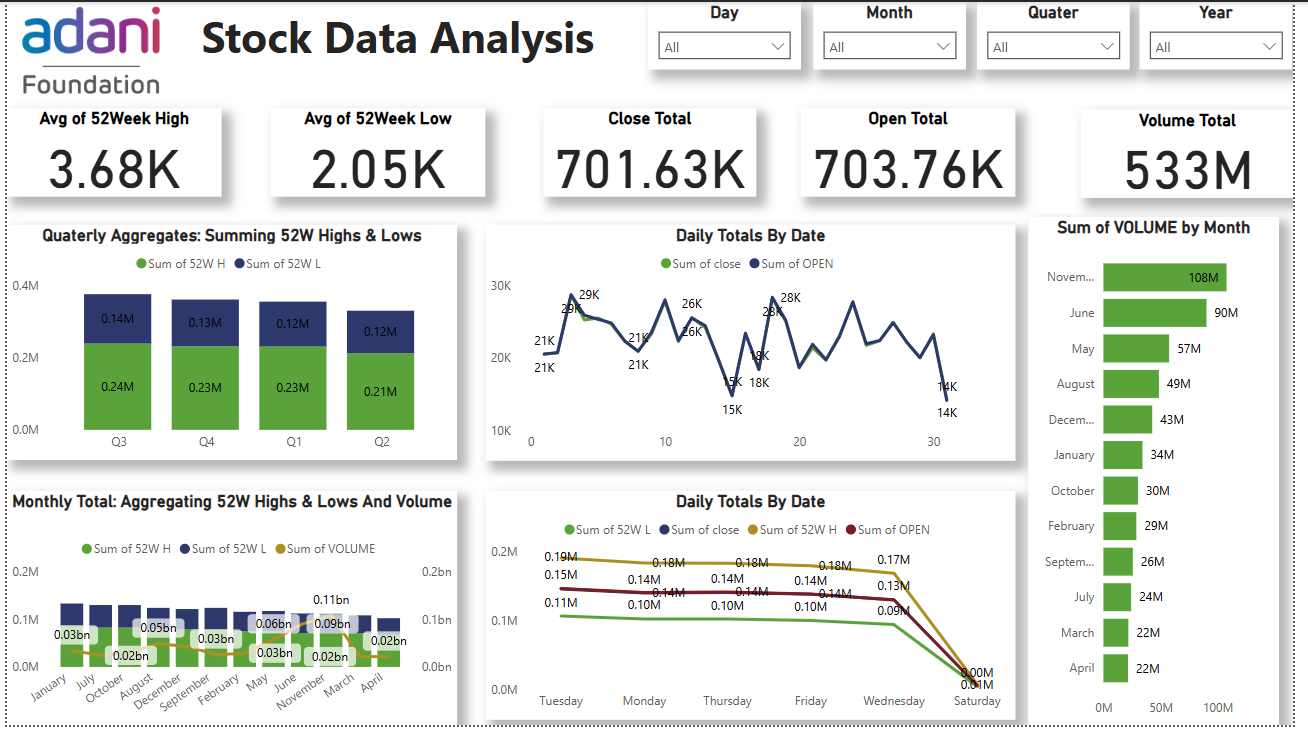

The page's visual inventory and layout, read from the dashboard file:
{"tool":"powerbi","page":{"name":"Page 1","canvas":[1280,720],"ordinal":0},"visuals":[{"type":"slicer","title":"Day","fields":{"Values":["Quote-Equity-ADANIENT-EQ-27-03-.Day"]},"box":[638.2,0,151.8,67.2],"z":0},{"type":"slicer","title":"Month","fields":{"Values":["Quote-Equity-ADANIENT-EQ-27-03-.Date .Variation.Date Hierarchy.Month"]},"box":[802.8,0,152,67],"z":1000},{"type":"slicer","title":"Quater","fields":{"Values":["Quote-Equity-ADANIENT-EQ-27-03-.Quater"]},"box":[964.8,0,152.2,67],"z":2000},{"type":"slicer","title":"Year","fields":{"Values":["Quote-Equity-ADANIENT-EQ-27-03-.Year"]},"box":[1126.7,0,152,67],"z":3000},{"type":"card","title":"Avg of 52Week High","fields":{"Values":["Avg(Quote-Equity-ADANIENT-EQ-27-03-.52W H )"]},"box":[0,106.1,213.6,88],"z":4000},{"type":"card","title":"Avg of 52Week Low","fields":{"Values":["Avg(Quote-Equity-ADANIENT-EQ-27-03-.52W L )"]},"box":[262.5,106.1,213.6,88],"z":5000},{"type":"card","title":"Close Total ","fields":{"Values":["Sum(Quote-Equity-ADANIENT-EQ-27-03-.close )"]},"box":[533.3,106.1,212.2,88],"z":6000},{"type":"card","title":"Open Total ","fields":{"Values":["Sum(Quote-Equity-ADANIENT-EQ-27-03-.OPEN )"]},"box":[790.2,106.1,213.6,88],"z":7000},{"type":"card","title":"Volume Total","fields":{"Values":["Sum(Quote-Equity-ADANIENT-EQ-27-03-.VOLUME )"]},"box":[1068.1,107.5,212.2,88],"z":8000},{"type":"columnChart","title":"Quaterly Aggregates: Summing 52W Highs & Lows","fields":{"Y":["Sum(Quote-Equity-ADANIENT-EQ-27-03-.52W H )","Sum(Quote-Equity-ADANIENT-EQ-27-03-.52W L )"],"Category":["Quote-Equity-ADANIENT-EQ-27-03-.Quater"]},"box":[0,222,448.2,234.6],"z":9000},{"type":"lineStackedColumnComboChart","title":"Monthly Total: Aggregating 52W Highs & Lows And Volume ","fields":{"Y":["Sum(Quote-Equity-ADANIENT-EQ-27-03-.52W H )","Sum(Quote-Equity-ADANIENT-EQ-27-03-.52W L )"],"Category":["Quote-Equity-ADANIENT-EQ-27-03-.Month "],"Y2":["Sum(Quote-Equity-ADANIENT-EQ-27-03-.VOLUME )"]},"box":[0,485.9,448.2,234.6],"z":10000},{"type":"lineChart","title":"Daily Totals By Date ","fields":{"Y":["Sum(Quote-Equity-ADANIENT-EQ-27-03-.close )","Sum(Quote-Equity-ADANIENT-EQ-27-03-.OPEN )"],"Category":["Quote-Equity-ADANIENT-EQ-27-03-.Date .Variation.Date Hierarchy.Day"]},"box":[476.4,221.4,527.4,235.1],"z":11000},{"type":"lineChart","title":"Daily Totals By Date ","fields":{"Y":["Sum(Quote-Equity-ADANIENT-EQ-27-03-.52W L )","Sum(Quote-Equity-ADANIENT-EQ-27-03-.close )","Sum(Quote-Equity-ADANIENT-EQ-27-03-.52W H )","Sum(Quote-Equity-ADANIENT-EQ-27-03-.OPEN )"],"Category":["Quote-Equity-ADANIENT-EQ-27-03-.Day"]},"box":[476.4,486.4,527.4,227.6],"z":12000},{"type":"clusteredBarChart","fields":{"Category":["Quote-Equity-ADANIENT-EQ-27-03-.Month "],"Y":["Sum(Quote-Equity-ADANIENT-EQ-27-03-.VOLUME )"]},"box":[1016.4,213.6,249.9,506.8],"z":13000},{"type":"image","box":[0,0,167.4,96.1],"z":14000},{"type":"textbox","box":[167.5,0,453.8,67],"z":15000}]}

Visuals, with their boxes in screenshot pixels (x1, y1, x2, y2), scaled from the page's 1280x720 canvas onto the 1308x731 screenshot:
"Day" slicer: [x1=652, y1=0, x2=807, y2=68]
"Month" slicer: [x1=820, y1=0, x2=976, y2=68]
"Quater" slicer: [x1=986, y1=0, x2=1141, y2=68]
"Year" slicer: [x1=1151, y1=0, x2=1307, y2=68]
"Avg of 52Week High" card: [x1=0, y1=108, x2=218, y2=197]
"Avg of 52Week Low" card: [x1=268, y1=108, x2=487, y2=197]
"Close Total " card: [x1=545, y1=108, x2=762, y2=197]
"Open Total " card: [x1=807, y1=108, x2=1026, y2=197]
"Volume Total" card: [x1=1091, y1=109, x2=1307, y2=198]
"Quaterly Aggregates: Summing 52W Highs & Lows" columnChart: [x1=0, y1=225, x2=458, y2=464]
"Monthly Total: Aggregating 52W Highs & Lows And Volume " lineStackedColumnComboChart: [x1=0, y1=493, x2=458, y2=730]
"Daily Totals By Date " lineChart: [x1=487, y1=225, x2=1026, y2=463]
"Daily Totals By Date " lineChart: [x1=487, y1=494, x2=1026, y2=725]
clusteredBarChart - Quote-Equity-ADANIENT-EQ-27-03-.Month  x Sum(Quote-Equity-ADANIENT-EQ-27-03-.VOLUME ): [x1=1039, y1=217, x2=1294, y2=730]
image: [x1=0, y1=0, x2=171, y2=98]
textbox: [x1=171, y1=0, x2=635, y2=68]
